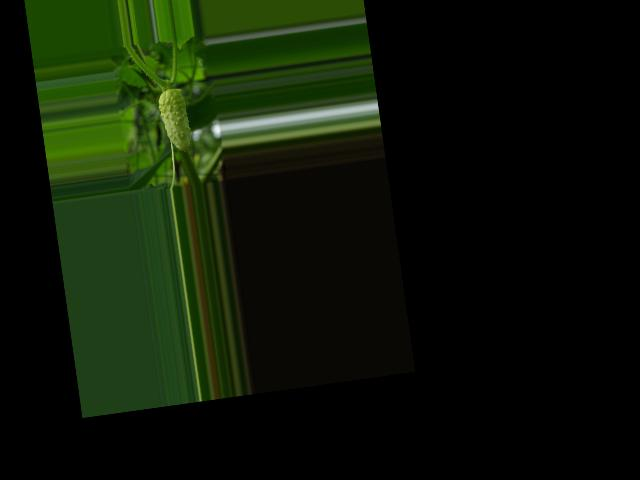cucumber: (156, 87, 192, 155)
